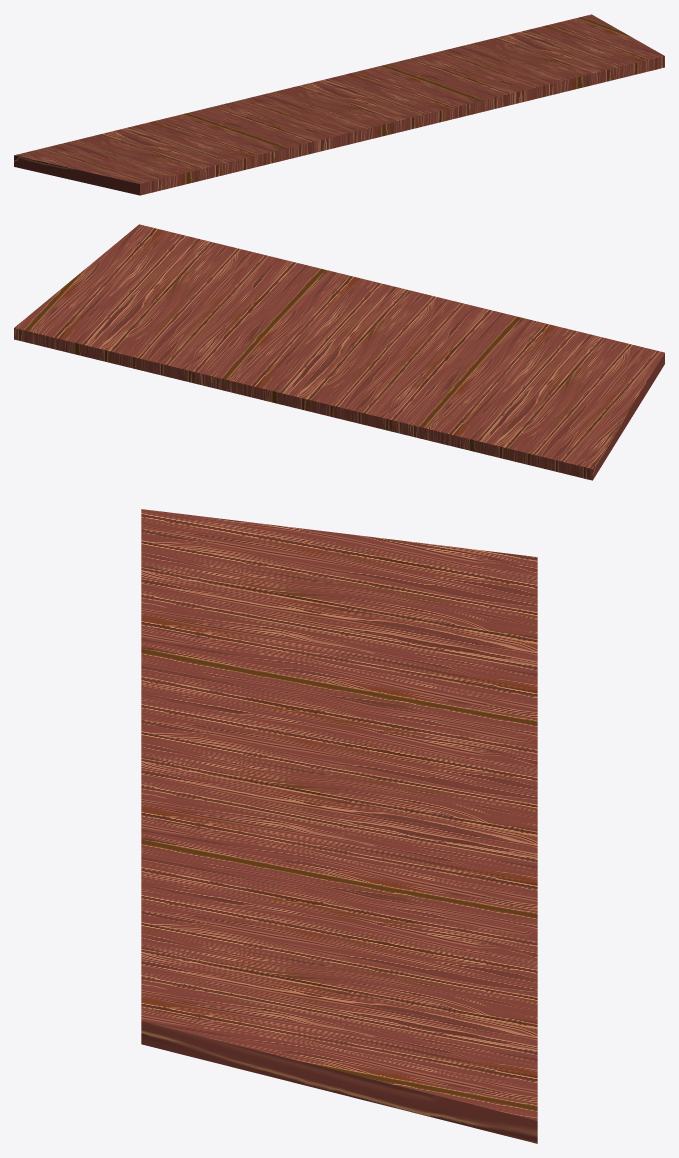
The picture shows the model from 3 angles, top to bottom: view 1: azimuth 30°, elevation 25°; view 2: azimuth 150°, elevation 25°; view 3: azimuth 270°, elevation 25°; orthographic projection. The views are drawn at different scales.
Visible parts, largest first — view 1: Cube.868; view 2: Cube.868; view 3: Cube.868.
Part boxes in pixels (bbox=[...]): Cube.868: bbox=[14, 14, 664, 195]; Cube.868: bbox=[14, 224, 664, 480]; Cube.868: bbox=[141, 509, 537, 1143].
Bounding box in the file's own units: 654 × 52.73 × 194.
Materials: 1 (1 with a texture image).
